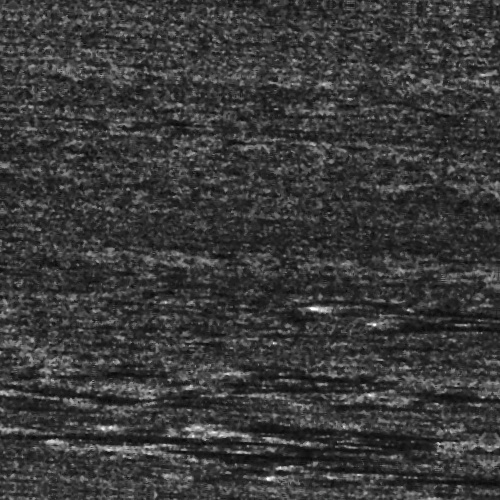object: (252, 455, 377, 470), (301, 461, 426, 476), (64, 447, 209, 458), (176, 418, 269, 435), (370, 295, 411, 306), (0, 435, 37, 446), (381, 308, 422, 317), (44, 392, 65, 403), (0, 413, 10, 420)
shadow: (222, 418, 448, 435), (0, 435, 347, 446), (315, 455, 487, 470), (137, 447, 354, 458), (364, 461, 500, 476), (391, 295, 500, 306), (402, 308, 500, 317), (55, 392, 109, 403), (0, 413, 83, 420)
